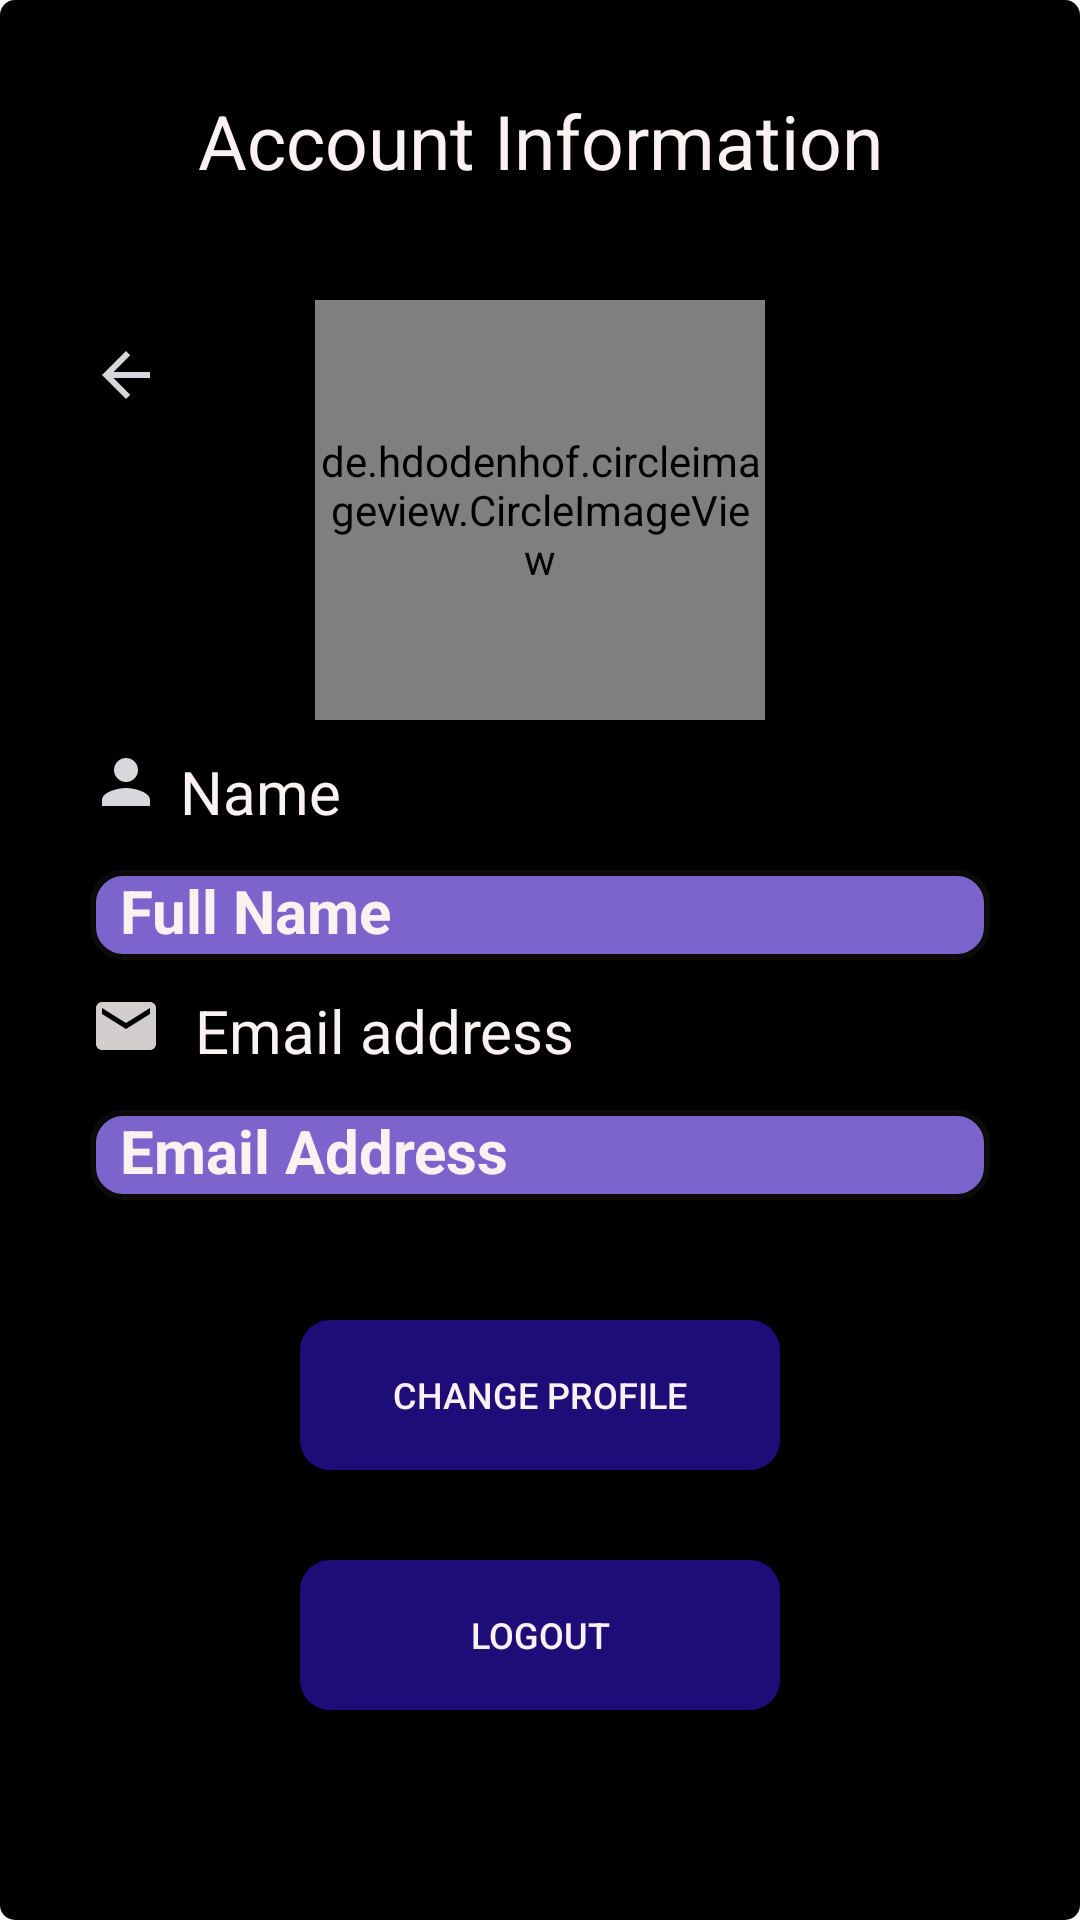

Icons on this 1080px×1920px Android screen, each with the point to tap as point (x, y):
arrow back: point (126, 375)
person: point (126, 782)
